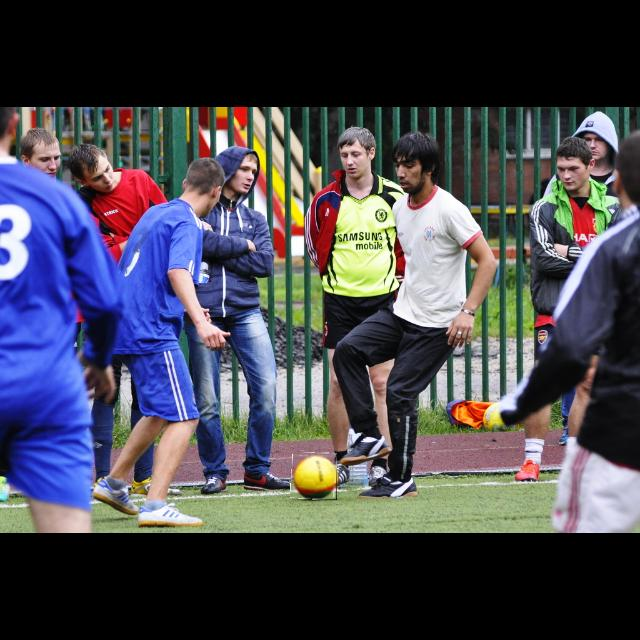Football: (291, 452, 337, 500)
